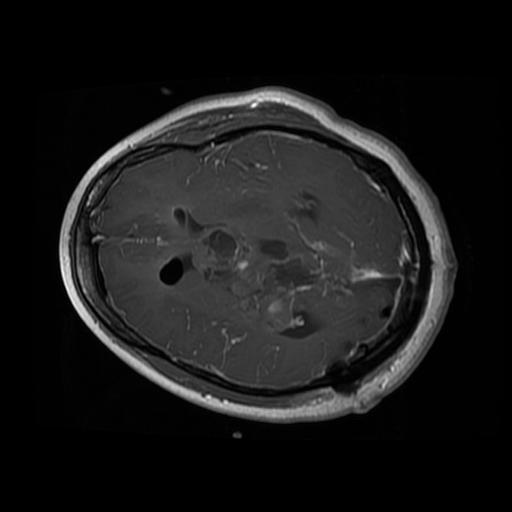glioma: (194, 223, 302, 339)
